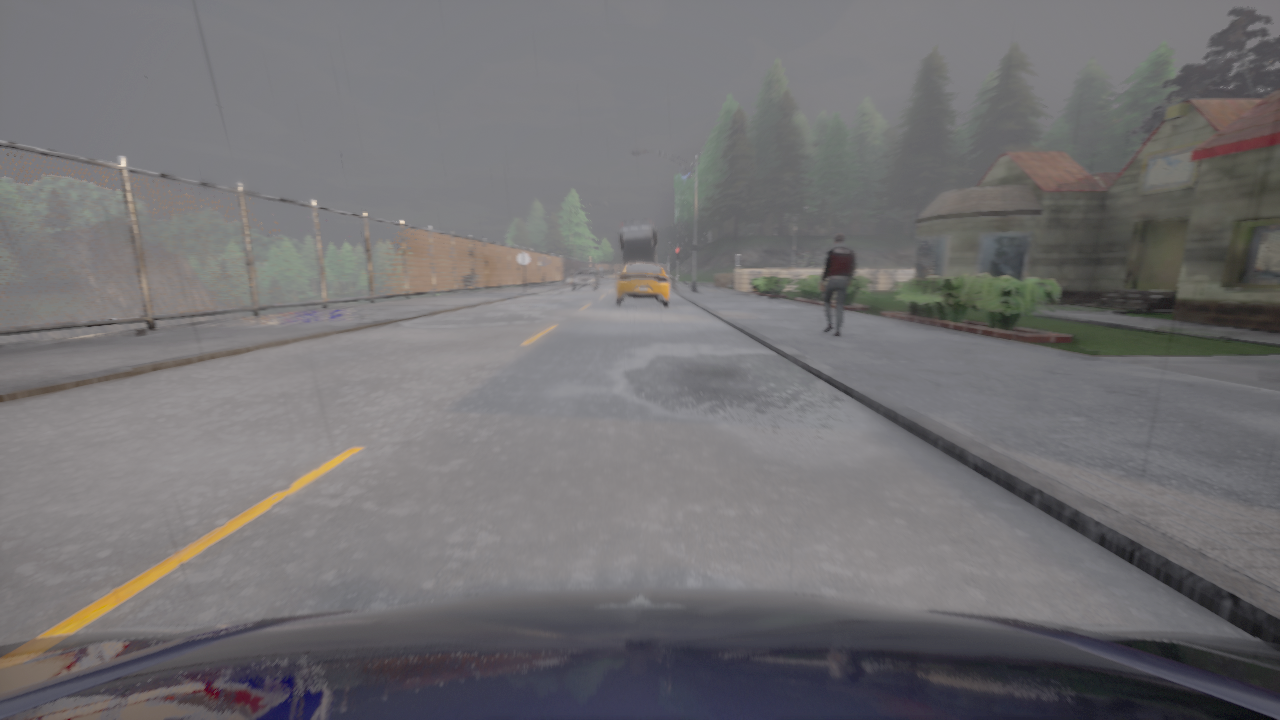cyclist: (0, 588, 1279, 719), (615, 262, 669, 307), (618, 220, 657, 268), (571, 268, 599, 290)
pedestrian: (819, 232, 855, 337)
